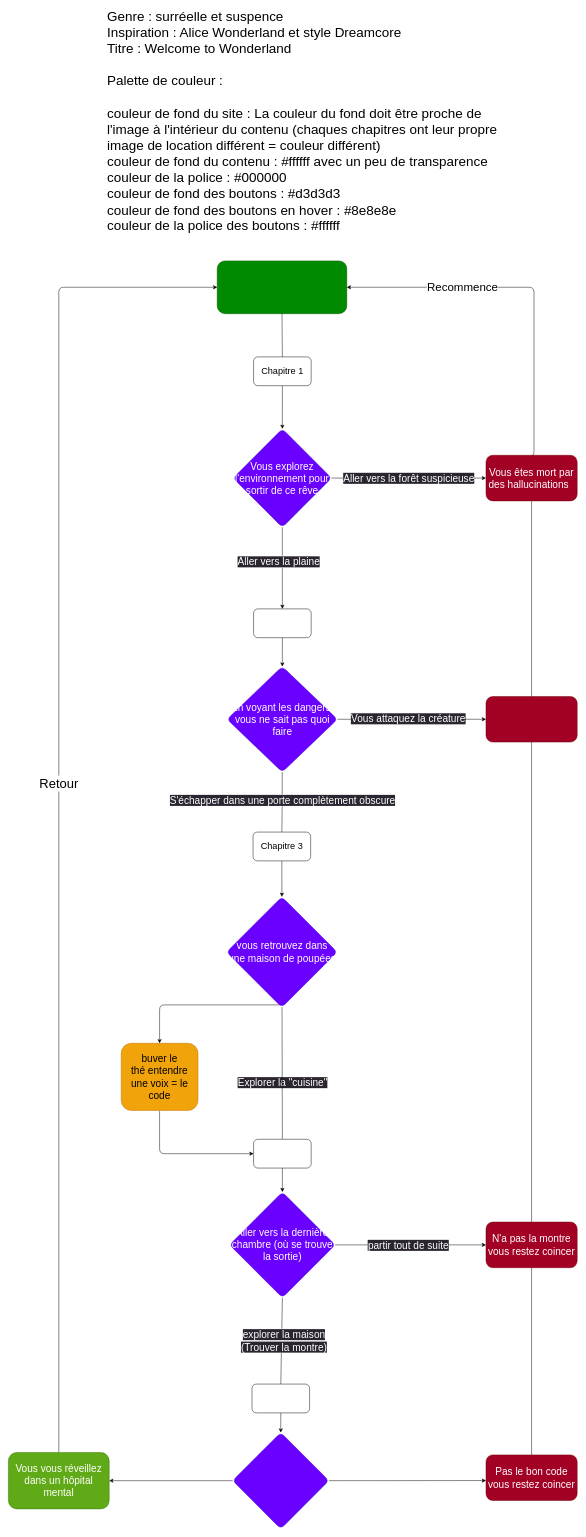
This 586x1537 diagram has some shape labels left out. The box of each missing label's shape, as (x1, y1, x2, y2) in pixels:
Ajuster le temps avec la montre à la sortie: (232, 1432, 329, 1529)
Chapitre 2: (253, 608, 311, 638)
Chapitre 4: (253, 1139, 311, 1168)
Chapitre 5: (252, 1384, 310, 1413)
Réveille dans un monde surréaliste: (217, 260, 347, 314)
Vous ne sentez plus rien et vous tomber dans le noir: (486, 696, 577, 742)
